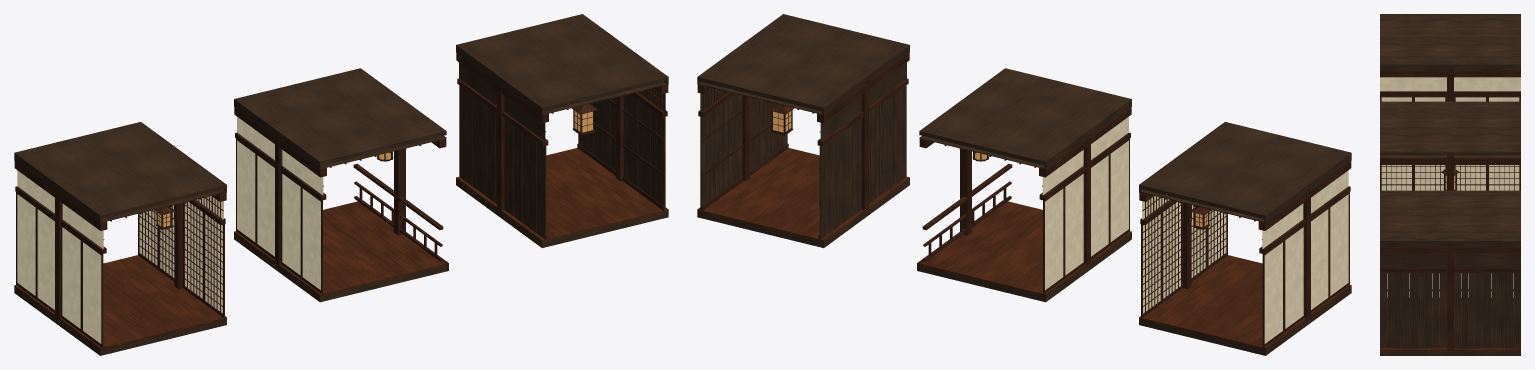
The model's file is corridor_modules.glb.
3 views of the same model, side by side, from view 1: azimuth 30°, elevation 25°; view 2: azimuth 150°, elevation 25°; view 3: azimuth 270°, elevation 25° (orthographic). The views are drawn at different scales.
Visible parts, largest first — view 1: IC04_Corridor_Straight_C__Shell, IC04_Corridor_Straight_B__Shell, IC04_Corridor_Straight_A__Shell, IC04_Corridor_Straight_A__WallL0__Leaf, IC04_Corridor_Straight_B__WallL0__Leaf, IC04_Corridor_Straight_A__WallR0__Leaf, IC04_Corridor_Straight_B__WallL1__Leaf, IC04_Corridor_Straight_B__WallL3__Leaf, IC04_Corridor_Straight_A__WallL1__Leaf, IC04_Corridor_Straight_A__WallL3__Leaf, IC04_Corridor_Straight_A__WallR1__Leaf, IC04_Corridor_Straight_B__WallL2__Leaf (+4 smaller); view 2: IC04_Corridor_Straight_C__Shell, IC04_Corridor_Straight_B__Shell, IC04_Corridor_Straight_A__Shell, IC04_Corridor_Straight_A__WallL3__Leaf, IC04_Corridor_Straight_B__WallL3__Leaf, IC04_Corridor_Straight_A__WallR3__Leaf, IC04_Corridor_Straight_B__WallL0__Leaf, IC04_Corridor_Straight_B__WallL2__Leaf, IC04_Corridor_Straight_A__WallL0__Leaf, IC04_Corridor_Straight_A__WallL2__Leaf, IC04_Corridor_Straight_A__WallR2__Leaf, IC04_Corridor_Straight_B__WallL1__Leaf (+4 smaller); view 3: IC04_Corridor_Straight_C__Shell, IC04_Corridor_Straight_A__Shell, IC04_Corridor_Straight_B__Shell, IC04_Corridor_Straight_B__WallL0__Leaf, IC04_Corridor_Straight_B__WallL3__Leaf, IC04_Corridor_Straight_B__WallL1__Leaf, IC04_Corridor_Straight_B__WallL2__Leaf, IC04_Corridor_Straight_A__WallR0__Leaf, IC04_Corridor_Straight_A__WallR1__Leaf, IC04_Corridor_Straight_A__WallR2__Leaf, IC04_Corridor_Straight_A__WallR3__Leaf, IC04_Corridor_Straight_B__Lantern_Eave__Mesh.
Part boxes in pixels (bbox=[...]): IC04_Corridor_Straight_C__Shell: bbox=[456, 14, 668, 247]; IC04_Corridor_Straight_B__Shell: bbox=[234, 68, 448, 302]; IC04_Corridor_Straight_A__Shell: bbox=[14, 122, 226, 355]; IC04_Corridor_Straight_A__WallL0__Leaf: bbox=[81, 240, 103, 347]; IC04_Corridor_Straight_B__WallL0__Leaf: bbox=[301, 187, 322, 293]; IC04_Corridor_Straight_A__WallR0__Leaf: bbox=[203, 213, 224, 317]; IC04_Corridor_Straight_B__WallL1__Leaf: bbox=[281, 171, 301, 278]; IC04_Corridor_Straight_B__WallL3__Leaf: bbox=[236, 138, 256, 245]; IC04_Corridor_Straight_A__WallL1__Leaf: bbox=[61, 225, 81, 332]; IC04_Corridor_Straight_A__WallL3__Leaf: bbox=[16, 192, 36, 299]; IC04_Corridor_Straight_A__WallR1__Leaf: bbox=[183, 201, 203, 302]; IC04_Corridor_Straight_B__WallL2__Leaf: bbox=[256, 153, 274, 259]; IC04_Corridor_Straight_C__Shell: bbox=[697, 14, 909, 247]; IC04_Corridor_Straight_B__Shell: bbox=[917, 68, 1131, 302]; IC04_Corridor_Straight_A__Shell: bbox=[1139, 122, 1351, 355]; IC04_Corridor_Straight_A__WallL3__Leaf: bbox=[1262, 240, 1284, 347]; IC04_Corridor_Straight_B__WallL3__Leaf: bbox=[1043, 187, 1064, 293]; IC04_Corridor_Straight_A__WallR3__Leaf: bbox=[1141, 213, 1162, 317]; IC04_Corridor_Straight_B__WallL0__Leaf: bbox=[1109, 138, 1129, 245]; IC04_Corridor_Straight_B__WallL2__Leaf: bbox=[1064, 171, 1084, 278]; IC04_Corridor_Straight_A__WallL0__Leaf: bbox=[1329, 192, 1349, 299]; IC04_Corridor_Straight_A__WallL2__Leaf: bbox=[1284, 225, 1304, 332]; IC04_Corridor_Straight_A__WallR2__Leaf: bbox=[1162, 201, 1182, 302]; IC04_Corridor_Straight_B__WallL1__Leaf: bbox=[1091, 153, 1109, 259]; IC04_Corridor_Straight_C__Shell: bbox=[1380, 190, 1520, 355]; IC04_Corridor_Straight_A__Shell: bbox=[1380, 14, 1520, 101]; IC04_Corridor_Straight_B__Shell: bbox=[1380, 101, 1520, 190]; IC04_Corridor_Straight_B__WallL0__Leaf: bbox=[1380, 165, 1413, 190]; IC04_Corridor_Straight_B__WallL3__Leaf: bbox=[1487, 165, 1520, 190]; IC04_Corridor_Straight_B__WallL1__Leaf: bbox=[1413, 165, 1446, 190]; IC04_Corridor_Straight_B__WallL2__Leaf: bbox=[1454, 165, 1487, 190]; IC04_Corridor_Straight_A__WallR0__Leaf: bbox=[1380, 96, 1413, 101]; IC04_Corridor_Straight_A__WallR1__Leaf: bbox=[1413, 96, 1446, 101]; IC04_Corridor_Straight_A__WallR2__Leaf: bbox=[1454, 96, 1487, 101]; IC04_Corridor_Straight_A__WallR3__Leaf: bbox=[1487, 96, 1520, 101]; IC04_Corridor_Straight_B__Lantern_Eave__Mesh: bbox=[1441, 168, 1459, 190].
Size of the model in its own units: 15.26 by 3.6 by 4.
7 materials, 5 textured.
